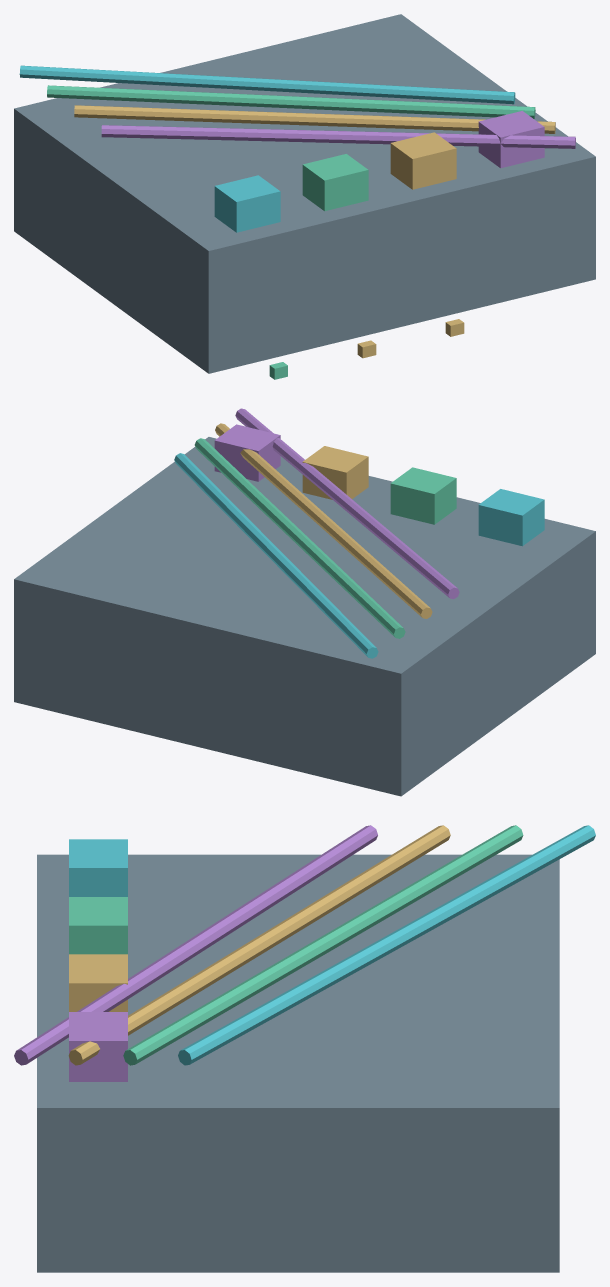
The model's file is 23_L80_FourChannelWDMMultiplexer.glb.
3 views of the same model, one above another, from view 1: azimuth 30°, elevation 25°; view 2: azimuth 150°, elevation 25°; view 3: azimuth 270°, elevation 25° (orthographic). The views are drawn at different scales.
Visible parts, largest first — view 1: FourChannelWDMMultiplexer_Node_0000, FourChannelWDMMultiplexer_Node_0002, FourChannelWDMMultiplexer_Node_0004, FourChannelWDMMultiplexer_Node_0008, FourChannelWDMMultiplexer_Node_0006, FourChannelWDMMultiplexer_Node_0005, FourChannelWDMMultiplexer_Node_0001, FourChannelWDMMultiplexer_Node_0003, FourChannelWDMMultiplexer_Node_0007; view 2: FourChannelWDMMultiplexer_Node_0000, FourChannelWDMMultiplexer_Node_0004, FourChannelWDMMultiplexer_Node_0002, FourChannelWDMMultiplexer_Node_0008, FourChannelWDMMultiplexer_Node_0006, FourChannelWDMMultiplexer_Node_0003, FourChannelWDMMultiplexer_Node_0001, FourChannelWDMMultiplexer_Node_0005, FourChannelWDMMultiplexer_Node_0007; view 3: FourChannelWDMMultiplexer_Node_0000, FourChannelWDMMultiplexer_Node_0002, FourChannelWDMMultiplexer_Node_0004, FourChannelWDMMultiplexer_Node_0006, FourChannelWDMMultiplexer_Node_0008, FourChannelWDMMultiplexer_Node_0007, FourChannelWDMMultiplexer_Node_0001, FourChannelWDMMultiplexer_Node_0003, FourChannelWDMMultiplexer_Node_0005.
Boxes of the visible parts, box(x1,y1,x2,y2) form: FourChannelWDMMultiplexer_Node_0000: box(14, 14, 595, 373); FourChannelWDMMultiplexer_Node_0002: box(19, 65, 515, 104); FourChannelWDMMultiplexer_Node_0004: box(47, 85, 535, 118); FourChannelWDMMultiplexer_Node_0008: box(101, 125, 575, 148); FourChannelWDMMultiplexer_Node_0006: box(74, 105, 555, 133); FourChannelWDMMultiplexer_Node_0005: box(390, 132, 456, 189); FourChannelWDMMultiplexer_Node_0001: box(214, 175, 280, 232); FourChannelWDMMultiplexer_Node_0003: box(302, 154, 368, 211); FourChannelWDMMultiplexer_Node_0007: box(478, 111, 544, 168); FourChannelWDMMultiplexer_Node_0000: box(14, 437, 595, 796); FourChannelWDMMultiplexer_Node_0004: box(194, 438, 405, 638); FourChannelWDMMultiplexer_Node_0002: box(174, 453, 378, 658); FourChannelWDMMultiplexer_Node_0008: box(235, 408, 459, 599); FourChannelWDMMultiplexer_Node_0006: box(215, 423, 432, 618); FourChannelWDMMultiplexer_Node_0003: box(390, 467, 456, 524); FourChannelWDMMultiplexer_Node_0001: box(478, 489, 544, 546); FourChannelWDMMultiplexer_Node_0005: box(302, 446, 368, 499); FourChannelWDMMultiplexer_Node_0007: box(214, 424, 280, 481); FourChannelWDMMultiplexer_Node_0000: box(37, 854, 559, 1272); FourChannelWDMMultiplexer_Node_0002: box(178, 825, 595, 1065); FourChannelWDMMultiplexer_Node_0004: box(123, 825, 523, 1065); FourChannelWDMMultiplexer_Node_0006: box(68, 825, 450, 1065); FourChannelWDMMultiplexer_Node_0008: box(14, 825, 377, 1065); FourChannelWDMMultiplexer_Node_0007: box(69, 1012, 127, 1081); FourChannelWDMMultiplexer_Node_0001: box(69, 839, 127, 896); FourChannelWDMMultiplexer_Node_0003: box(69, 897, 127, 954); FourChannelWDMMultiplexer_Node_0005: box(69, 954, 127, 1011).
Size of the model in its own units: 1.32 by 0.658 by 1.28.
